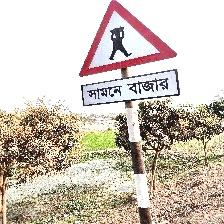Market-in-front: (78, 0, 181, 108)
